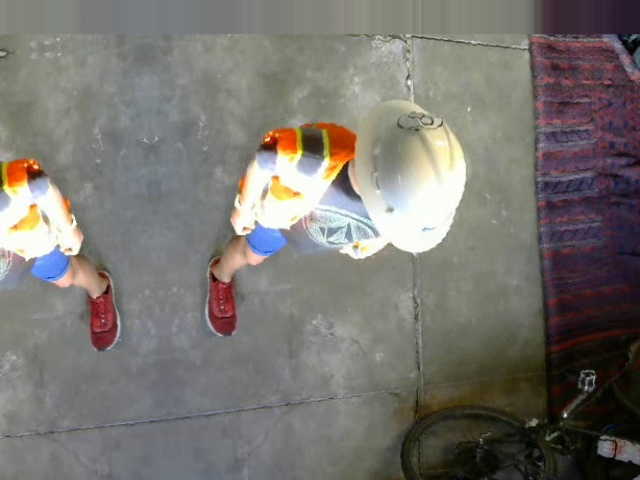eight: (394, 107, 444, 136)
